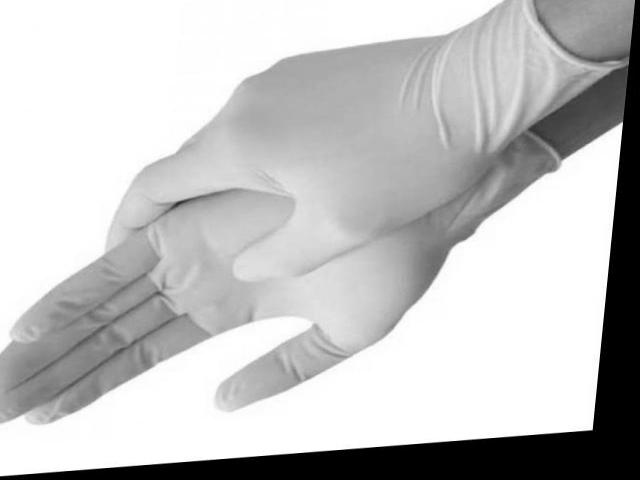gloved: (0, 182, 500, 428), (102, 41, 494, 280)
